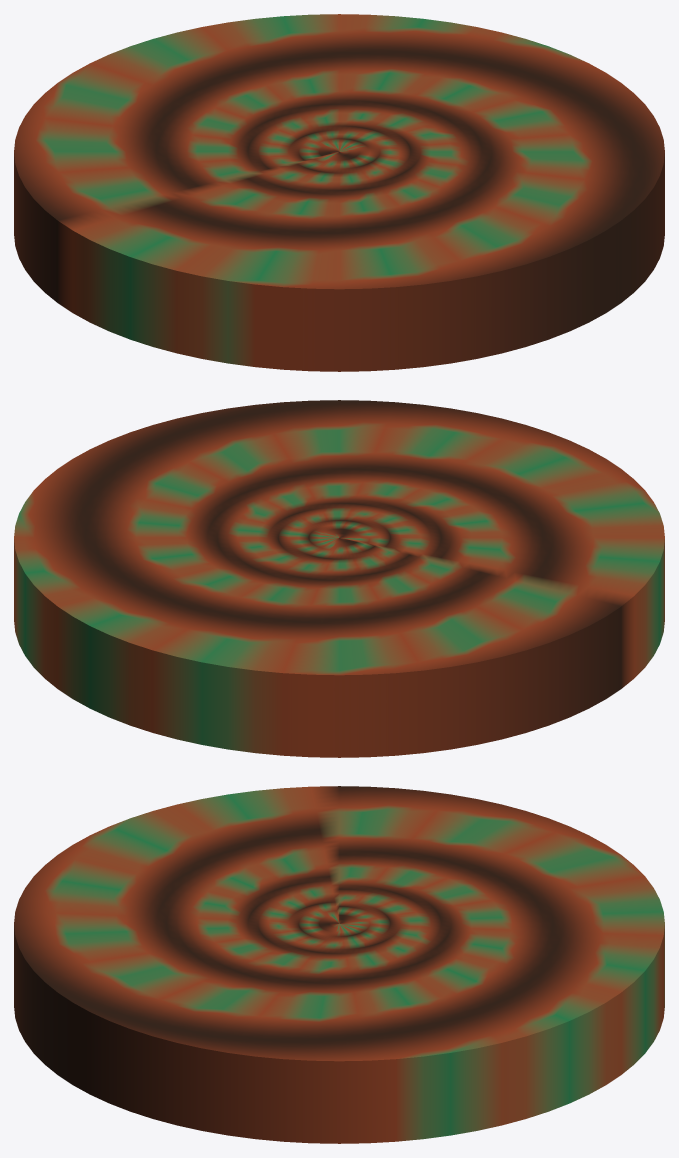
Rendered from ammolite.glb.
The picture shows the model from 3 angles, top to bottom: view 1: azimuth 30°, elevation 25°; view 2: azimuth 150°, elevation 25°; view 3: azimuth 270°, elevation 25°; orthographic projection.
Parts seen in each view (by area): view 1: ammolite; view 2: ammolite; view 3: ammolite.
Boxes of the visible parts, x1,y1,x2,y2 form: ammolite: (14,14,664,371); ammolite: (14,400,664,757); ammolite: (14,786,664,1143).
Size of the model in its own units: 0.25 by 0.035 by 0.25.
